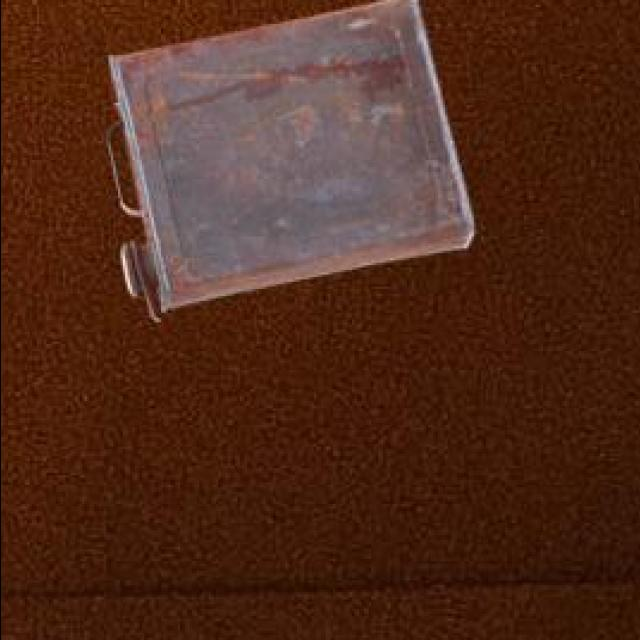logam: (104, 0, 469, 316)
